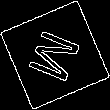M_E: (23, 24, 87, 86)
